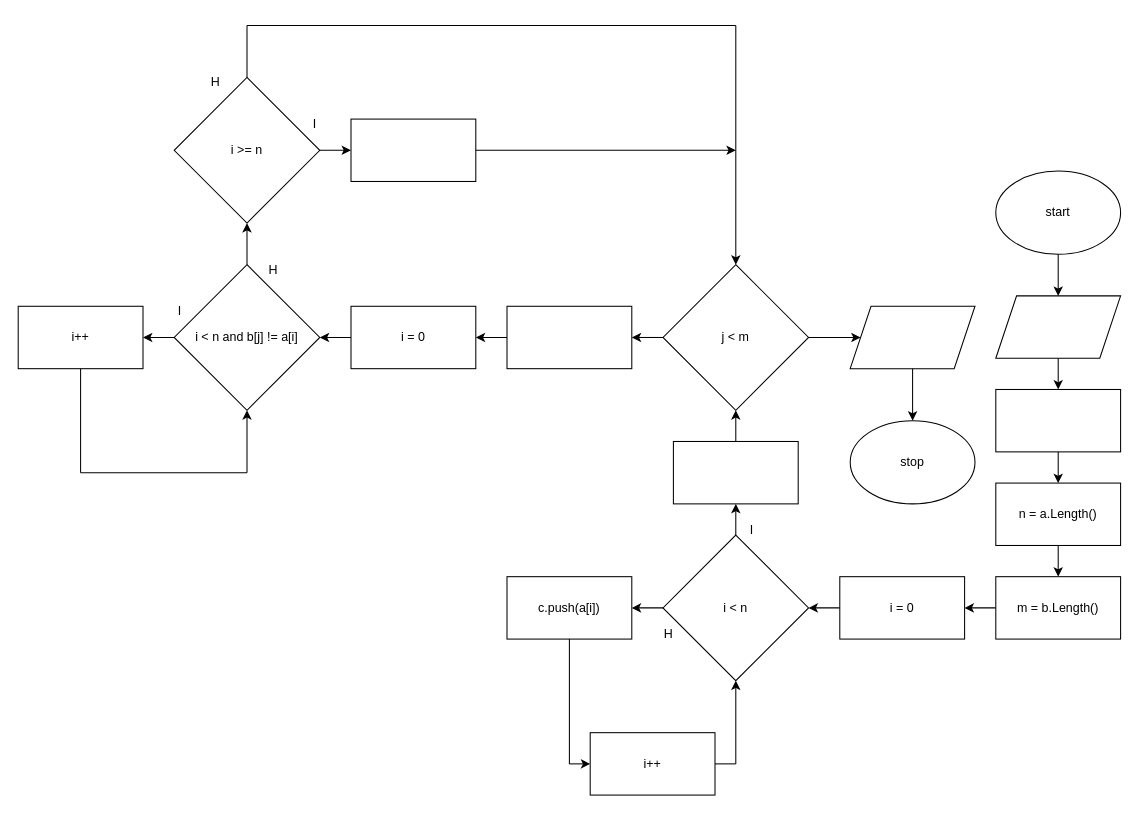
Image size: 1139x813. Some labels were removed from this diagram. The shapes that lost their labels are listed below. From the top down, each one's centre as x and y in pixels, then its label:
(x=413, y=149): c.append(b[j])
(x=569, y=337): j++
(x=912, y=337): Ki: c[]
(x=1058, y=326): Be: a[], b[]
(x=1058, y=420): c = []
(x=735, y=472): j = 0
